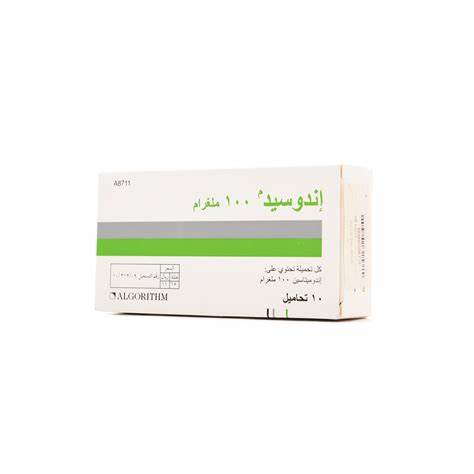Medicine: (91, 160, 375, 326)
